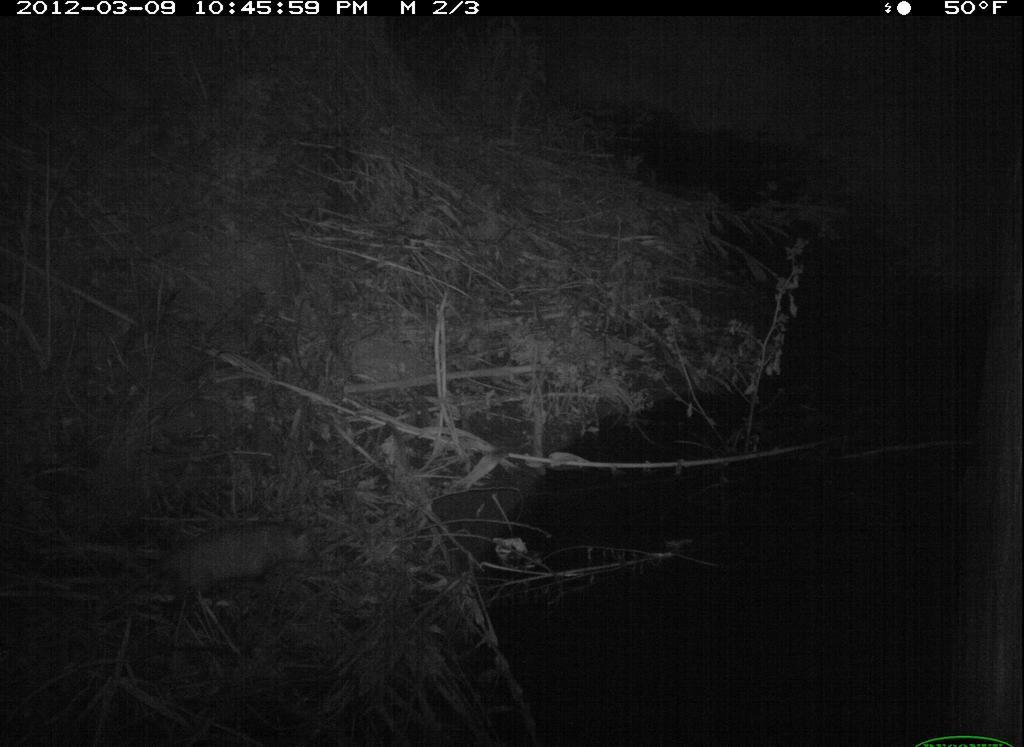opossum: (114, 474, 342, 629)
